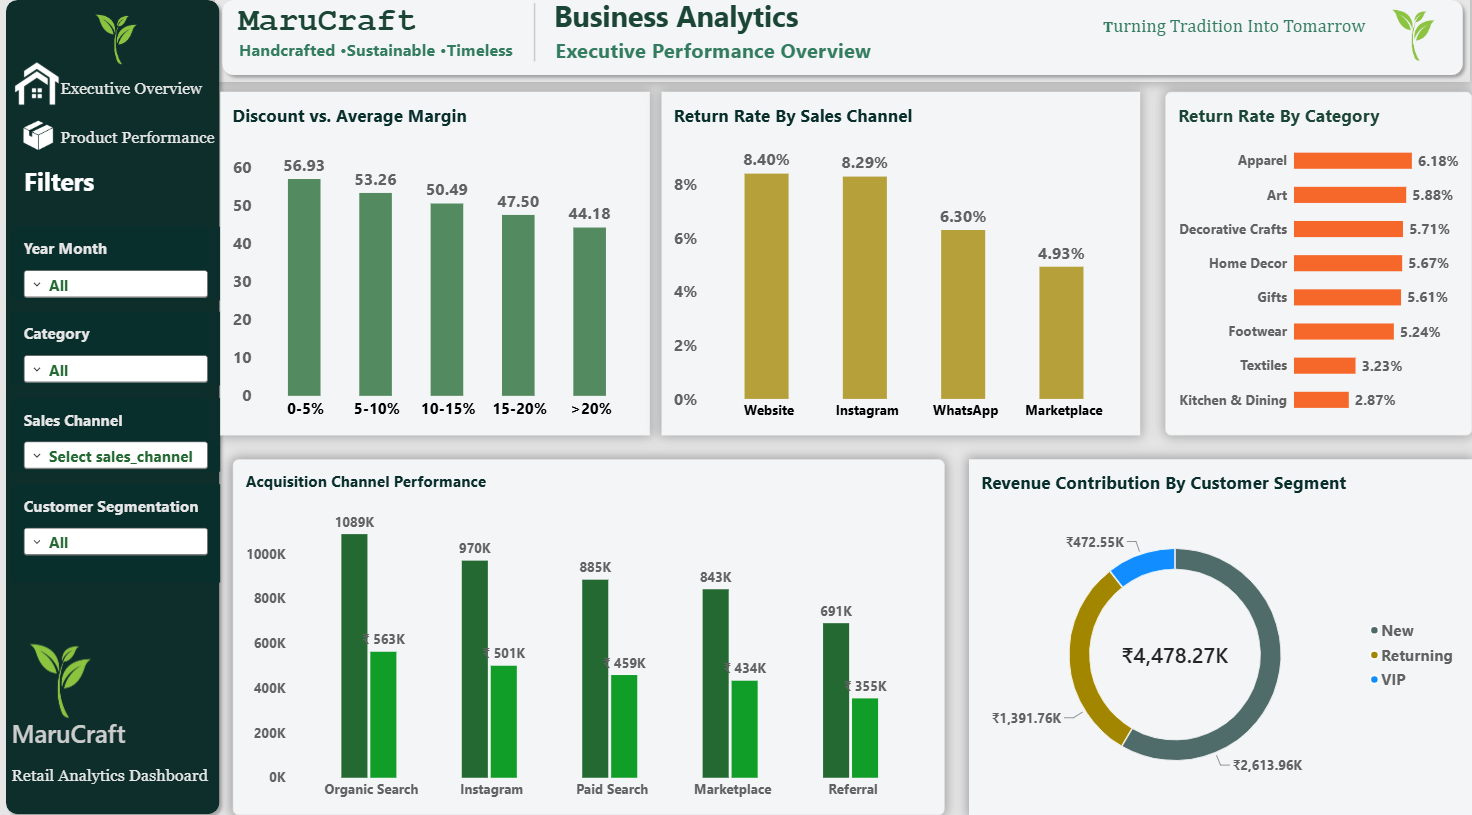

Layout of this report page (visuals, bound fields, positions):
{"tool":"powerbi","page":{"name":"Executive Overview","canvas":[1920,1080],"ordinal":0},"visuals":[{"type":"shape","box":[0,0,296.3,1079.5],"z":0},{"type":"shape","box":[320,128,384,144],"z":0,"group":"g1"},{"type":"shape","box":[736,128,368,144],"z":0,"group":"g2"},{"type":"shape","box":[1136,128,384,144],"z":0,"group":"g3"},{"type":"shape","box":[1536,128,365,144],"z":0,"group":"g4"},{"type":"shape","box":[281.1,0,1635.3,115.9],"z":1000},{"type":"image","box":[345,142,54.3,52.7],"z":1000,"group":"g1"},{"type":"image","box":[1559.8,142,51.6,52.7],"z":1000,"group":"g4"},{"type":"image","box":[758.7,142.5,49.2,54.3],"z":1000,"group":"g2"},{"type":"image","box":[1154.4,143.5,73.7,62],"z":1000,"group":"g3"},{"type":"textbox","box":[295.2,12.7,248.2,103.2],"z":2000},{"type":"textbox","box":[416,144,240,48],"z":2000,"group":"g1"},{"type":"textbox","box":[1616,144,288,64],"z":2000,"group":"g4"},{"type":"textbox","box":[1242.4,145.6,217,47.4],"z":2000,"group":"g3"},{"type":"textbox","box":[832.6,146.1,196.9,48.9],"z":2000,"group":"g2"},{"type":"textbox","box":[313.4,58,367.7,48.9],"z":3000},{"type":"shape","box":[666.6,12.7,63.4,76.1],"z":4000},{"type":"textbox","box":[722.7,5.4,371.3,61.6],"z":5000},{"type":"textbox","box":[724.5,56.2,423.8,48.9],"z":6000},{"type":"textbox","box":[1438.2,30.8,367.7,48.9],"z":7000},{"type":"image","box":[1785.2,0,115.9,110.5],"z":8000},{"type":"image","box":[58,6.2,188.4,108],"z":9000},{"type":"textbox","box":[80,112,208,48],"z":10000},{"type":"textbox","box":[80,176,208,48],"z":11000},{"type":"image","box":[0,128,102.5,114.1],"z":12000},{"type":"image","box":[0,64,99.3,108.7],"z":13000},{"type":"textbox","box":[16,944,256,96],"z":14000},{"type":"textbox","box":[16,1008,272,32],"z":15000},{"type":"image","box":[0,752,160,288],"z":16000},{"type":"lineChart","title":"Monthly Revenue And Profit Trend","fields":{"Category":["marucraft_orders.month_name_year"],"Y":["Sum(marucraft_orders.profit)","Sum(marucraft_orders.revenue)"]},"box":[304,288,816,384],"z":17000},{"type":"clusteredBarChart","title":"Top 10 Product by Revenue","fields":{"Category":["marucraft_orders.product_name"],"Y":["marucraft_orders.Total Revenue"]},"box":[304,688,512,384],"z":18000},{"type":"group","id":"g1","title":"Group 1","box":[320,128,384,144],"z":19000},{"type":"group","id":"g2","title":"Group 1","box":[736,128,368,144],"z":20000},{"type":"group","id":"g3","title":"Group 1","box":[1136,128,384,144],"z":21000},{"type":"group","id":"g4","title":"Group 1","box":[1536,128,368,144],"z":22000},{"type":"cardVisual","fields":{"Data":["marucraft_orders.Total Profit Display"]},"box":[816,208,176,64],"z":23000},{"type":"cardVisual","fields":{"Data":["marucraft_orders.Total Revenue Display"]},"box":[432,208,160,64],"z":24000},{"type":"cardVisual","fields":{"Data":["marucraft_orders.Total Orders Display"]},"box":[1232,192,144,96],"z":25000},{"type":"cardVisual","fields":{"Data":["marucraft_orders.Average Margin Display"]},"box":[1648,208,160,64],"z":26000},{"type":"clusteredBarChart","title":"Top 10 Product by Profit","fields":{"Category":["marucraft_orders.product_name"],"Y":["marucraft_orders.Total Profit"]},"box":[848,688,512,384],"z":27000},{"type":"treemap","title":"Category Profit Contribution","fields":{"Group":["marucraft_orders.category"],"Values":["Sum(marucraft_orders.profit)"]},"box":[1392,696,512,384],"z":28000},{"type":"lineStackedColumnComboChart","title":"Return Rate by Month Wise","fields":{"Category":["marucraft_orders.month_name_year"],"Y":["marucraft_orders.Return_rate"]},"box":[1136,288,768,384],"z":29000},{"type":"textbox","box":[32,224,144,64],"z":30000},{"type":"listSlicer","title":"Category","fields":{"Values":["marucraft_orders.category"]},"box":[16,416,272,96],"z":31000},{"type":"listSlicer","title":"Sales Channel","fields":{"Values":["marucraft_orders.sales_channel"]},"box":[16,528,272,96],"z":32000},{"type":"listSlicer","title":"Customer Segmentation","fields":{"Values":["marucraft_orders.customer_segment"]},"box":[16,640,272,128],"z":33000},{"type":"listSlicer","title":"Year Month","fields":{"Values":["marucraft_orders.order_date.Variation.Date Hierarchy.Year","marucraft_orders.order_date.Variation.Date Hierarchy.Month"]},"box":[16,304,272,96],"z":34000},{"type":"actionButton","box":[80,176,208,32],"z":35000}]}

Visuals, with their boxes on the page's 1920x1080 design canvas (x1, y1, x2, y2). These are canvas units, not pixel positions in the 1472x815 screenshot, which may show the page scaled, cropped or inside an application window:
shape: box=[0, 0, 296, 1080]
shape: box=[320, 128, 704, 272]
shape: box=[736, 128, 1104, 272]
shape: box=[1136, 128, 1520, 272]
shape: box=[1536, 128, 1901, 272]
shape: box=[281, 0, 1916, 116]
image: box=[345, 142, 399, 195]
image: box=[1560, 142, 1611, 195]
image: box=[759, 142, 808, 197]
image: box=[1154, 144, 1228, 206]
textbox: box=[295, 13, 543, 116]
textbox: box=[416, 144, 656, 192]
textbox: box=[1616, 144, 1904, 208]
textbox: box=[1242, 146, 1459, 193]
textbox: box=[833, 146, 1030, 195]
textbox: box=[313, 58, 681, 107]
shape: box=[667, 13, 730, 89]
textbox: box=[723, 5, 1094, 67]
textbox: box=[724, 56, 1148, 105]
textbox: box=[1438, 31, 1806, 80]
image: box=[1785, 0, 1901, 110]
image: box=[58, 6, 246, 114]
textbox: box=[80, 112, 288, 160]
textbox: box=[80, 176, 288, 224]
image: box=[0, 128, 102, 242]
image: box=[0, 64, 99, 173]
textbox: box=[16, 944, 272, 1040]
textbox: box=[16, 1008, 288, 1040]
image: box=[0, 752, 160, 1040]
"Monthly Revenue And Profit Trend" lineChart: box=[304, 288, 1120, 672]
"Top 10 Product by Revenue" clusteredBarChart: box=[304, 688, 816, 1072]
"Group 1" group: box=[320, 128, 704, 272]
"Group 1" group: box=[736, 128, 1104, 272]
"Group 1" group: box=[1136, 128, 1520, 272]
"Group 1" group: box=[1536, 128, 1904, 272]
cardVisual - marucraft_orders.Total Profit Display: box=[816, 208, 992, 272]
cardVisual - marucraft_orders.Total Revenue Display: box=[432, 208, 592, 272]
cardVisual - marucraft_orders.Total Orders Display: box=[1232, 192, 1376, 288]
cardVisual - marucraft_orders.Average Margin Display: box=[1648, 208, 1808, 272]
"Top 10 Product by Profit" clusteredBarChart: box=[848, 688, 1360, 1072]
"Category Profit Contribution" treemap: box=[1392, 696, 1904, 1080]
"Return Rate by Month Wise" lineStackedColumnComboChart: box=[1136, 288, 1904, 672]
textbox: box=[32, 224, 176, 288]
"Category" listSlicer: box=[16, 416, 288, 512]
"Sales Channel" listSlicer: box=[16, 528, 288, 624]
"Customer Segmentation" listSlicer: box=[16, 640, 288, 768]
"Year Month" listSlicer: box=[16, 304, 288, 400]
actionButton: box=[80, 176, 288, 208]
